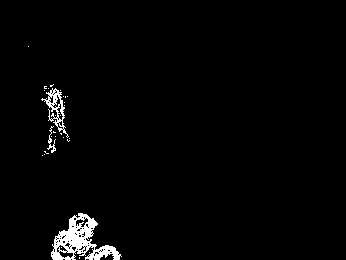person: (47, 211, 121, 260), (39, 82, 71, 158)
